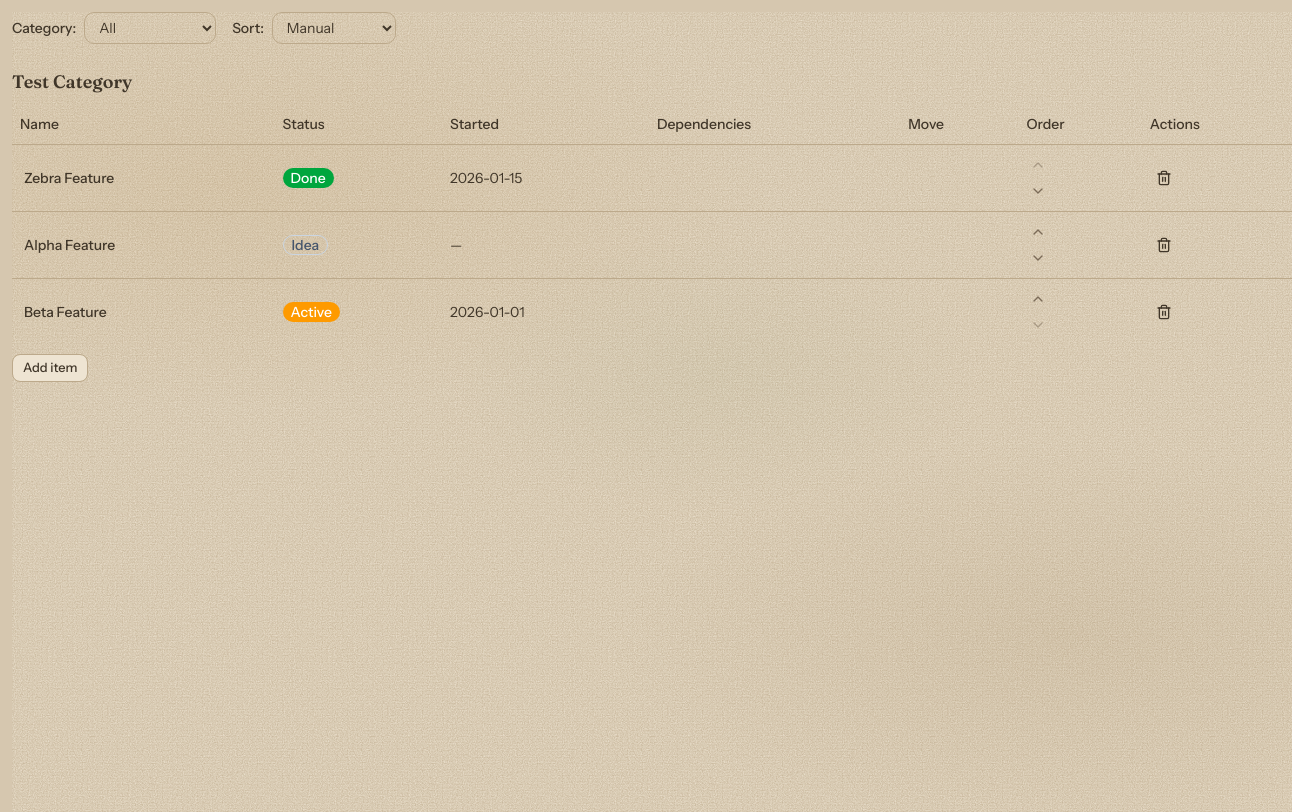
Test: RoadmapList › sorting › hides Order column when not in manual sort mode
The image size is (1292, 812).
Check: the column heading "Order" is shown, box x1=1018 y1=104 x2=1142 y2=144
Switch to status sort
Select "Status" in the dropdown with test id "sort-by" at (334, 28), box x1=272 y1=12 x2=396 y2=44
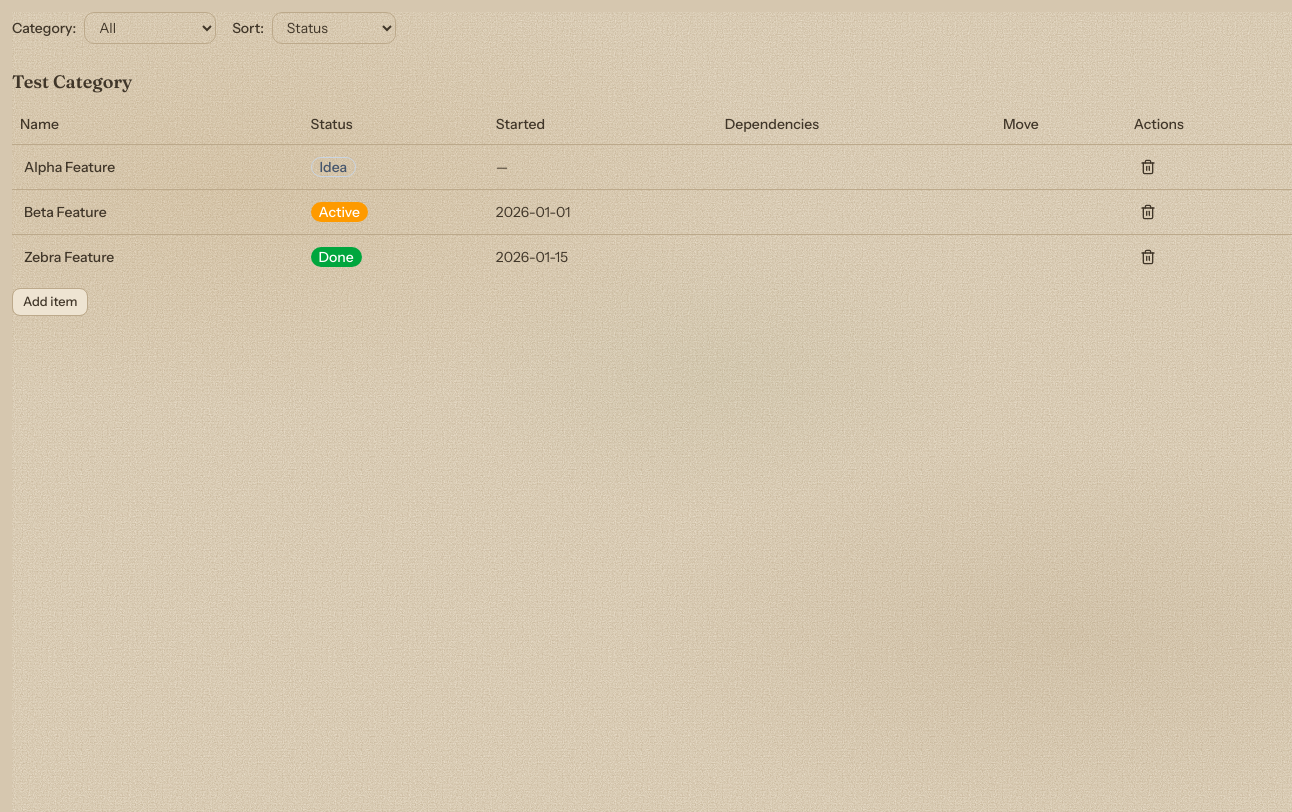
Check: the column heading "Order" is gone
